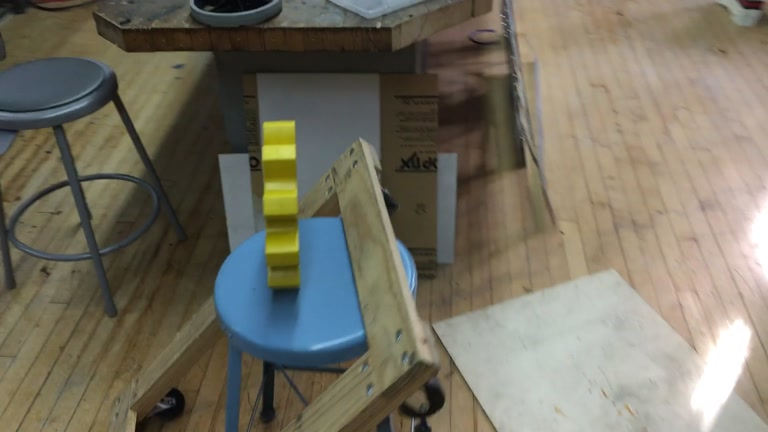gear: (259, 121, 303, 291)
